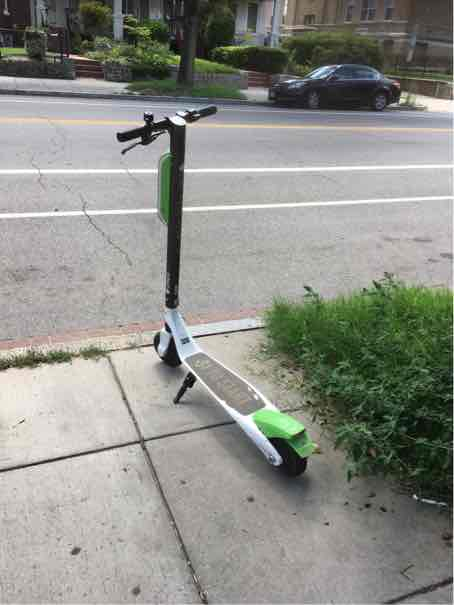scooter: (115, 101, 318, 486)
